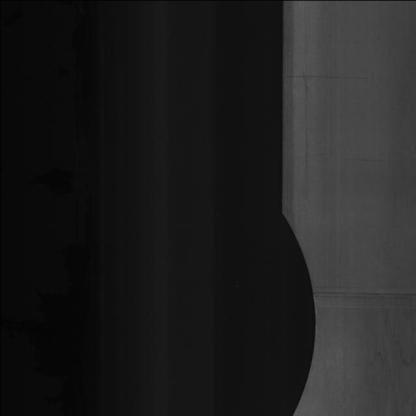welding_line: (307, 272, 413, 312)
